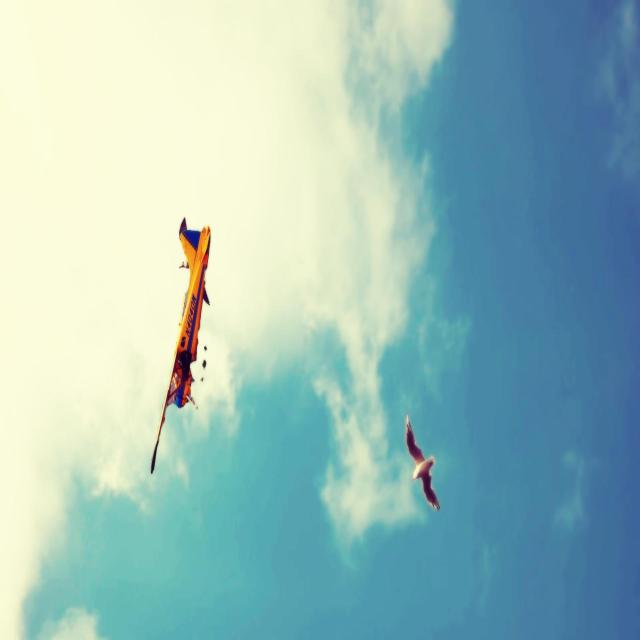airplane: (150, 216, 211, 474)
